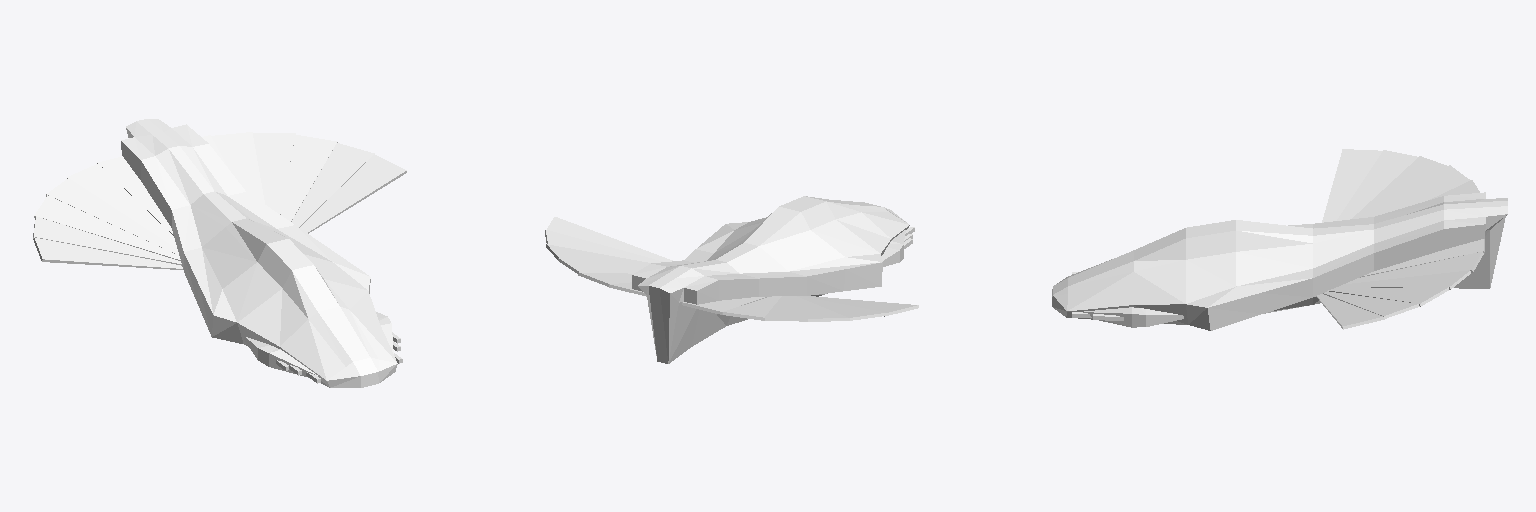
The model's file is int.obj.
3 renders of one model, left to right at view 1: azimuth 30°, elevation 25°; view 2: azimuth 150°, elevation 25°; view 3: azimuth 270°, elevation 25°, orthographic.
Visible parts, largest first — view 1: mdl_R-l-0-g-0, mdlR-l-1(LOD=64.000000); view 2: mdl_R-l-0-g-0, mdlR-l-1(LOD=64.000000); view 3: mdl_R-l-0-g-0, mdlR-l-1(LOD=64.000000).
Boxes of the visible parts, x1,y1,x2,y2 form: mdl_R-l-0-g-0: [33, 119, 402, 387]; mdlR-l-1(LOD=64.000000): [33, 133, 406, 269]; mdl_R-l-0-g-0: [545, 196, 918, 363]; mdlR-l-1(LOD=64.000000): [546, 217, 916, 321]; mdl_R-l-0-g-0: [1052, 156, 1507, 330]; mdlR-l-1(LOD=64.000000): [1316, 149, 1482, 328].
Size of the model in its own units: 4.01 by 1.1 by 4.34.